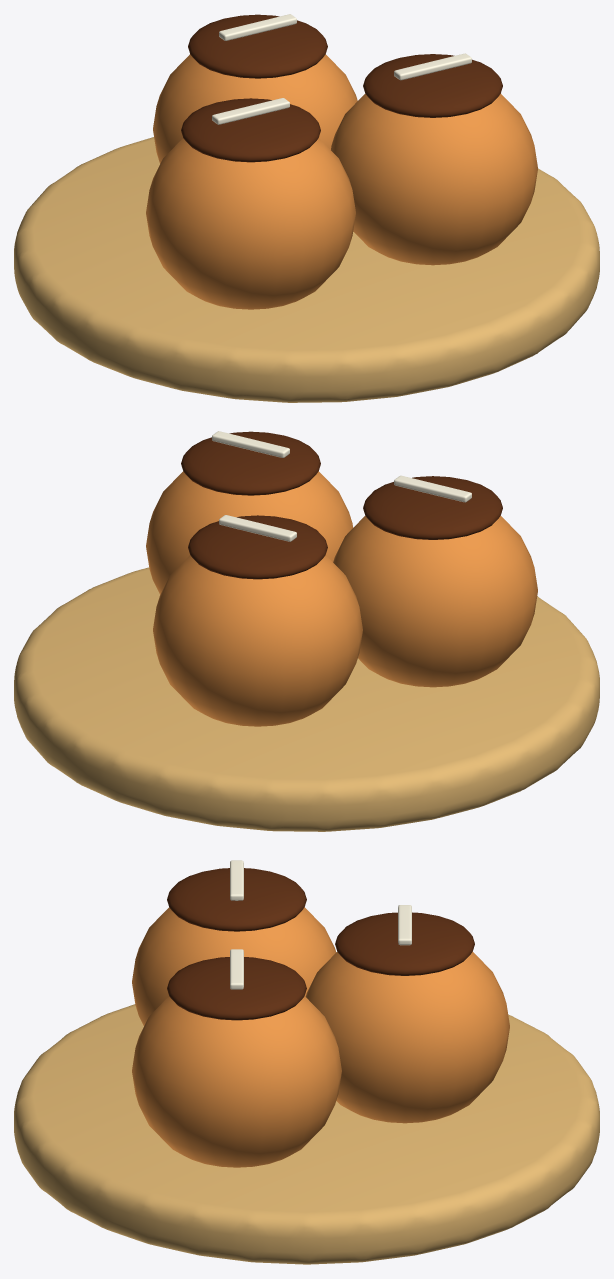
Rendered from Hat_Takoyaki.glb.
3 renders of one model, top to bottom at view 1: azimuth 30°, elevation 25°; view 2: azimuth 150°, elevation 25°; view 3: azimuth 270°, elevation 25°, orthographic.
Parts seen in each view (by area): view 1: Cylinder, Sphere, Sphere.002, Sphere.004, Sphere.003, Sphere.005, Sphere.001, Cube, Cube.001, Cube.002; view 2: Cylinder, Sphere.004, Sphere, Sphere.002, Sphere.003, Sphere.001, Sphere.005, Cube.001, Cube, Cube.002; view 3: Cylinder, Sphere.002, Sphere.004, Sphere, Sphere.001, Sphere.005, Sphere.003, Cube, Cube.001, Cube.002.
Part boxes in pixels (x1,y1,x2,y2): Cylinder: (14,137,599,402); Sphere: (146,138,355,309); Sphere.002: (331,93,537,265); Sphere.004: (153,54,357,163); Sphere.003: (363,54,502,117); Sphere.005: (188,14,327,78); Sphere.001: (181,98,320,162); Cube: (212,98,289,124); Cube.001: (394,53,471,80); Cube.002: (219,14,296,40); Cylinder: (14,567,599,831); Sphere.004: (153,555,362,726); Sphere: (333,516,537,687); Sphere.002: (146,471,353,594); Sphere.003: (181,431,320,495); Sphere.001: (363,476,502,539); Sphere.005: (188,515,327,579); Cube.001: (212,431,289,457); Cube: (394,475,471,502); Cube.002: (219,515,296,541); Cylinder: (14,1004,599,1264); Sphere.002: (132,996,341,1167); Sphere.004: (305,952,509,1123); Sphere: (132,907,336,1025); Sphere.001: (167,868,306,931); Sphere.005: (335,912,474,975); Sphere.003: (167,957,306,1020); Cube: (230,860,243,900); Cube.001: (230,949,243,989); Cube.002: (398,905,411,945).
Bounding box in the file's own units: 0.8366 × 0.355 × 0.8366.
